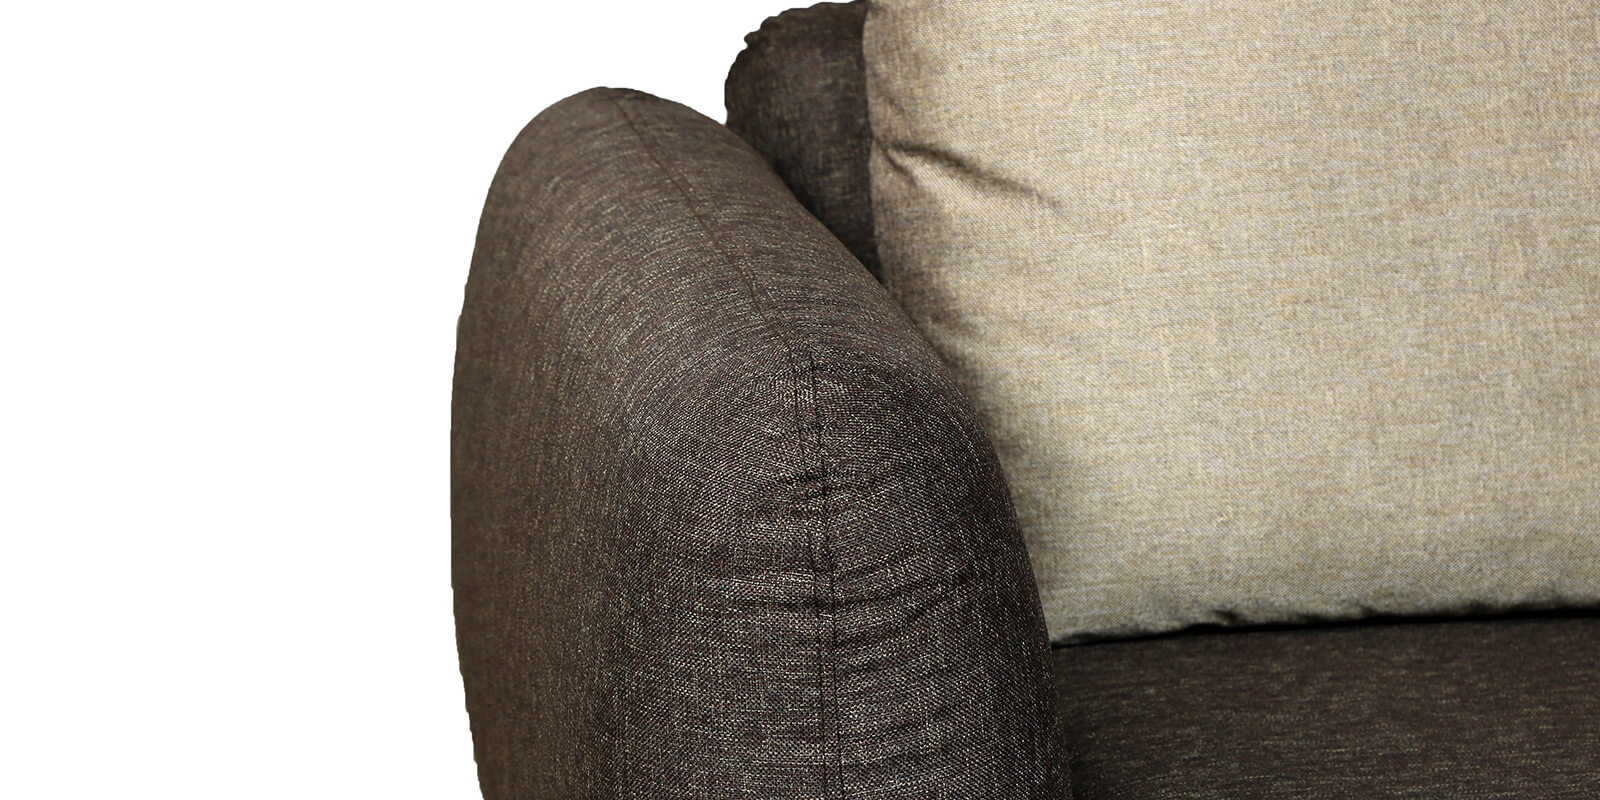Exclusive Three Seater Sofa in Dark Grey Colour by Parin: (431, 3, 1595, 800)
